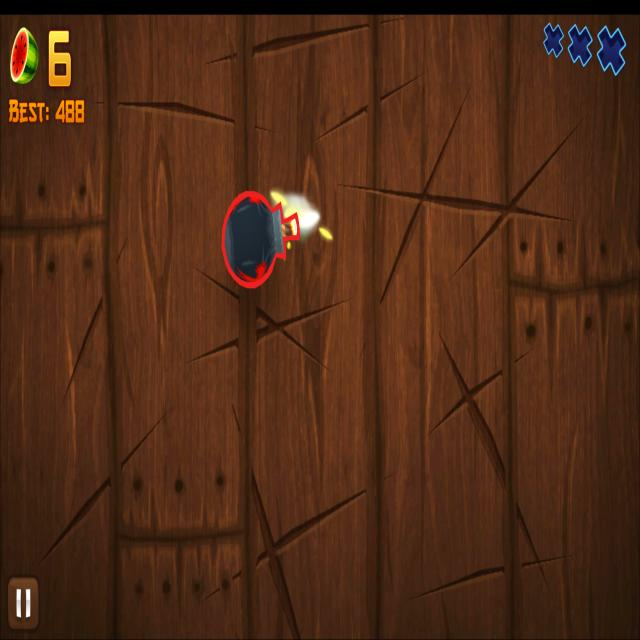bomb: (222, 188, 302, 289)
